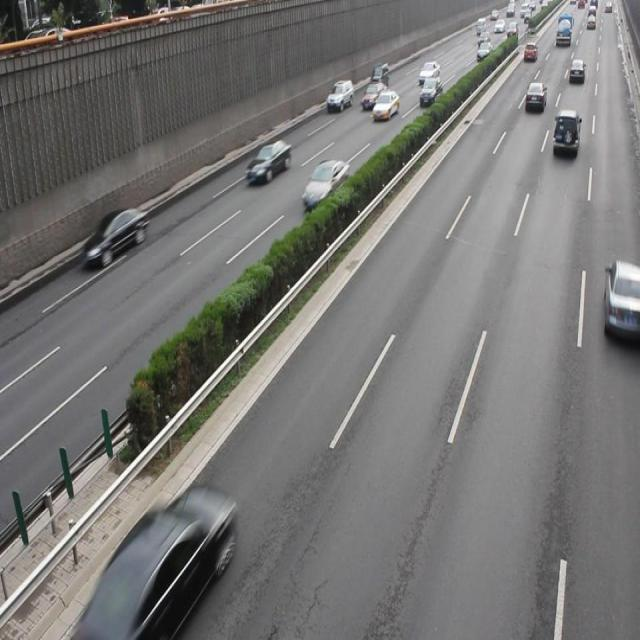car: (100, 489, 231, 640), (81, 206, 148, 265), (601, 258, 640, 339), (301, 157, 349, 208), (245, 138, 291, 182), (551, 109, 578, 160), (371, 90, 398, 122)
